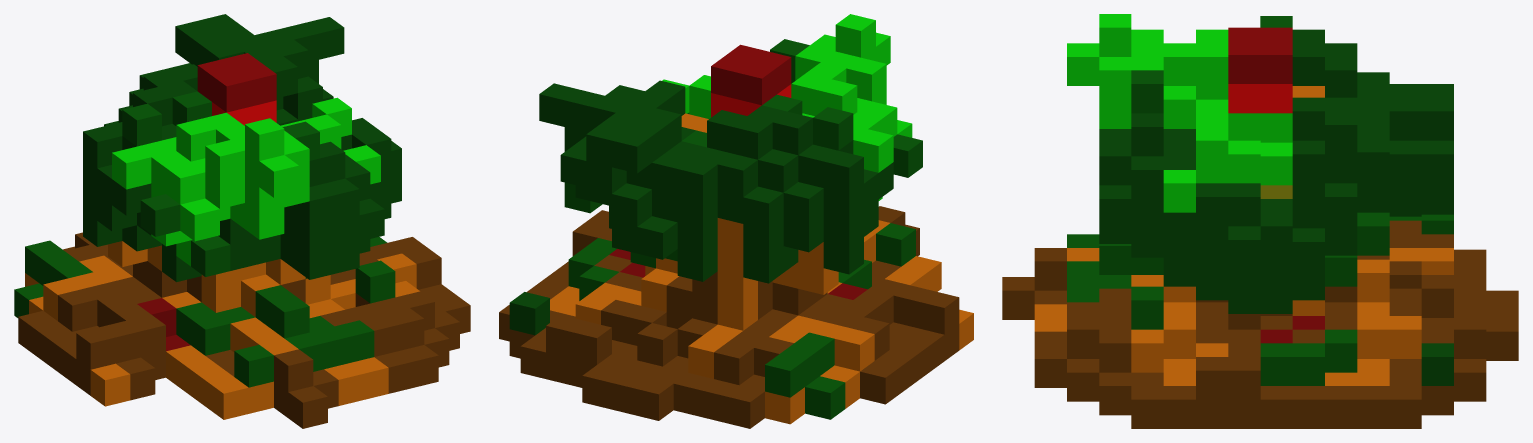
Rendered from Miguel_Angel_Cartagena_Herrera_fase_2.obj.
3 views of the same model, side by side, from view 1: azimuth 30°, elevation 25°; view 2: azimuth 150°, elevation 25°; view 3: azimuth 270°, elevation 25° (orthographic). The views are drawn at different scales.
Visible parts, largest first — view 1: Miguel_Angel_Cartagena_Herrera_fase_2; view 2: Miguel_Angel_Cartagena_Herrera_fase_2; view 3: Miguel_Angel_Cartagena_Herrera_fase_2.
Boxes of the visible parts, left/top/right/bottom form: Miguel_Angel_Cartagena_Herrera_fase_2: left=14, top=14, right=470, bottom=428; Miguel_Angel_Cartagena_Herrera_fase_2: left=499, top=14, right=973, bottom=428; Miguel_Angel_Cartagena_Herrera_fase_2: left=1002, top=14, right=1518, bottom=428.
Bounding box in the file's own units: 14 × 10 × 16.
Materials: 1 (1 with a texture image).
